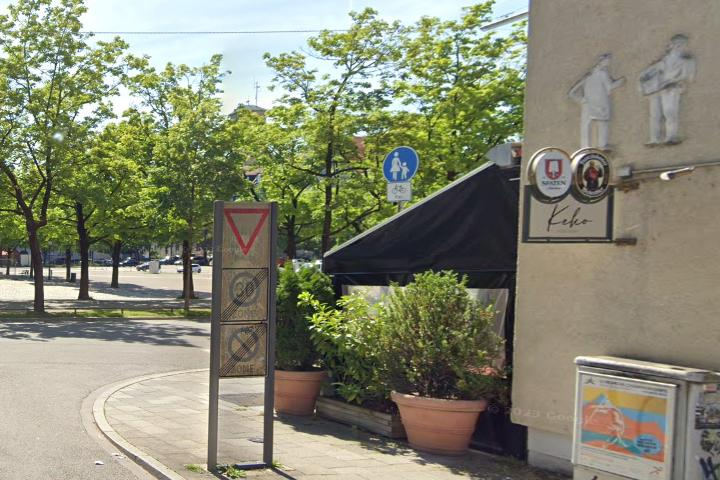traffic_sign: (221, 206, 270, 255), (381, 145, 419, 184), (228, 271, 262, 308), (228, 326, 261, 362)
